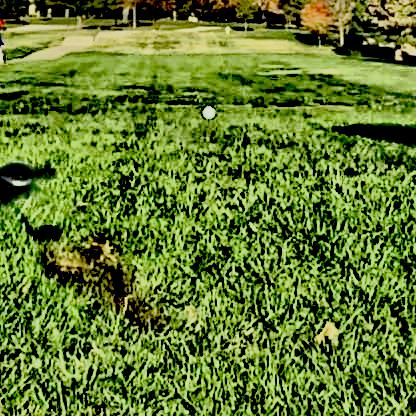golfball: (200, 101, 214, 115)
